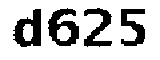2: (79, 7, 114, 54)
5: (116, 4, 148, 51)
6: (47, 6, 80, 52)
d: (9, 6, 45, 51)
